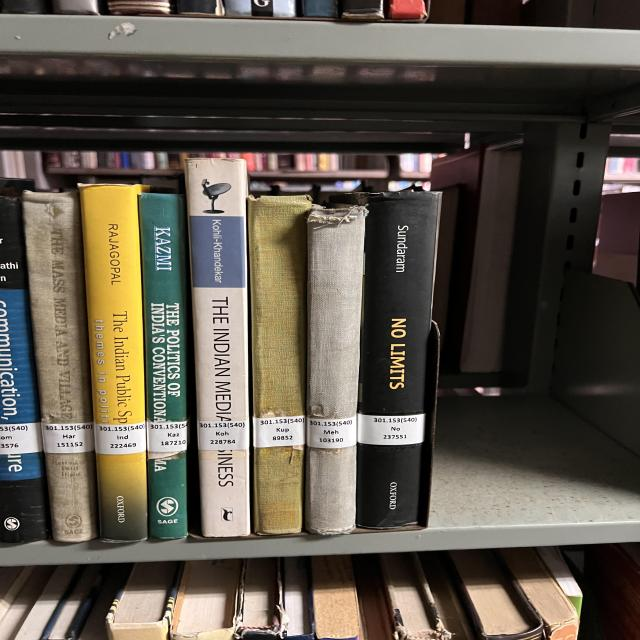Book: (332, 190, 442, 529), (22, 191, 98, 542), (185, 159, 250, 538), (80, 184, 148, 541), (247, 195, 312, 535), (305, 205, 367, 535), (0, 192, 50, 542), (138, 194, 188, 539), (248, 381, 250, 384)
Label: (357, 414, 425, 445), (95, 421, 147, 455), (253, 415, 305, 448), (42, 422, 95, 454), (307, 416, 357, 449), (198, 420, 250, 451), (0, 422, 42, 455), (147, 421, 187, 452)
